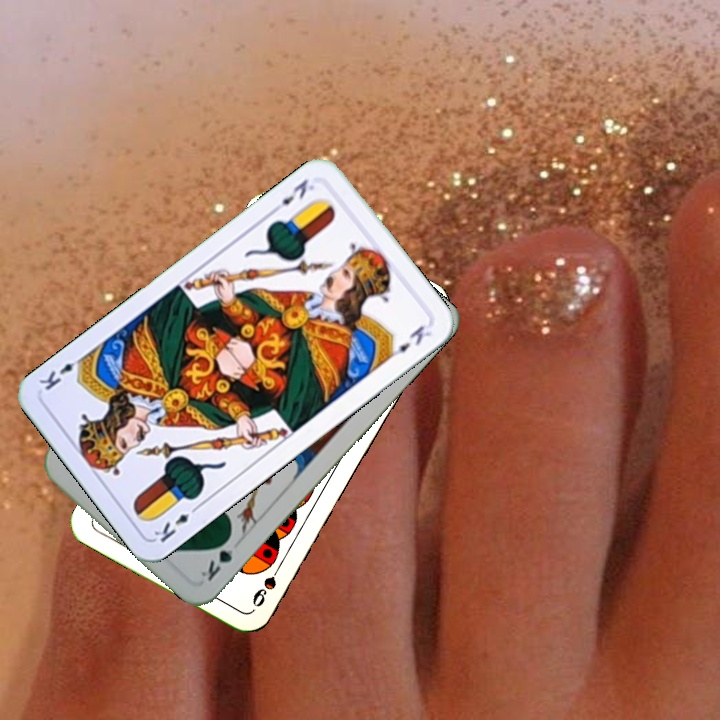EK: (149, 500, 203, 545), (267, 174, 317, 216)
GK: (196, 531, 236, 584)
S9: (248, 558, 286, 610)
